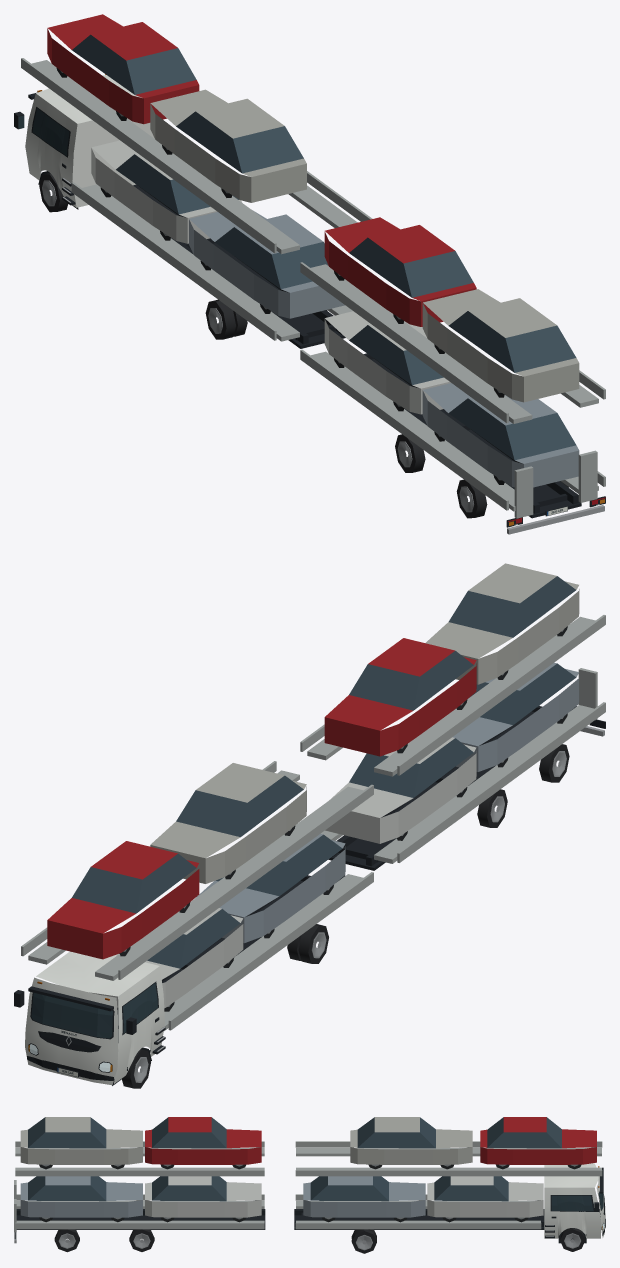
Rendered from Entrega_22_LOD2.glb.
3 views of the same model, one above another, from view 1: azimuth 30°, elevation 25°; view 2: azimuth 150°, elevation 25°; view 3: azimuth 270°, elevation 25° (orthographic). The views are drawn at different scales.
Parts seen in each view (by area): view 1: Body (×2), Load_08, Load_04, Load_03, Load_07, Load_06, Load_02, Load_05, Load_01, Wheel_Trailer_RL (×2), Wheel_RL, Glass (+1 smaller); view 2: Body (×2), Load_07, Load_03, Load_04, Load_08, Load_05, Load_06, Load_02, Load_01, Glass, Wheel_Trailer_RL (×2), Wheel_RL (+1 smaller); view 3: Body (×2), Load_08, Load_04, Load_07, Load_03, Load_02, Load_06, Load_01, Load_05, Wheel_Trailer_RR (×2), Glass, Wheel_RR (+1 smaller).
Part boxes in pixels (<box>): Body (×2): <box>14,58,605,534</box>; Load_08: <box>422,289,579,402</box>; Load_04: <box>150,89,306,202</box>; Load_03: <box>47,14,199,124</box>; Load_07: <box>324,217,476,326</box>; Load_06: <box>422,383,579,487</box>; Load_02: <box>189,210,344,318</box>; Load_05: <box>324,311,450,414</box>; Load_01: <box>91,138,242,243</box>; Wheel_Trailer_RL (×2): <box>395,434,487,518</box>; Wheel_RL: <box>205,299,247,339</box>; Glass: <box>32,108,69,155</box>; Body (×2): <box>14,615,605,1085</box>; Load_07: <box>324,638,476,756</box>; Load_03: <box>47,841,199,959</box>; Load_04: <box>150,763,306,883</box>; Load_08: <box>425,563,579,684</box>; Load_05: <box>325,737,476,843</box>; Load_06: <box>452,662,579,771</box>; Load_02: <box>195,833,345,943</box>; Load_01: <box>91,908,243,1011</box>; Glass: <box>31,983,157,1038</box>; Wheel_Trailer_RL (×2): <box>477,744,569,827</box>; Wheel_RL: <box>287,924,328,963</box>; Body (×2): <box>14,1141,605,1243</box>; Load_08: <box>20,1117,142,1169</box>; Load_04: <box>350,1117,472,1169</box>; Load_07: <box>145,1117,261,1169</box>; Load_03: <box>480,1117,596,1169</box>; Load_02: <box>303,1176,425,1222</box>; Load_06: <box>20,1176,142,1222</box>; Load_01: <box>427,1176,543,1222</box>; Load_05: <box>145,1176,261,1222</box>; Wheel_Trailer_RR (×2): <box>54,1229,154,1252</box>; Glass: <box>551,1192,603,1211</box>; Wheel_RR: <box>351,1229,376,1253</box>.
Size of the model in its own units: 2.88 by 4.38 by 20.61.
Materials: 12 (2 with a texture image).
